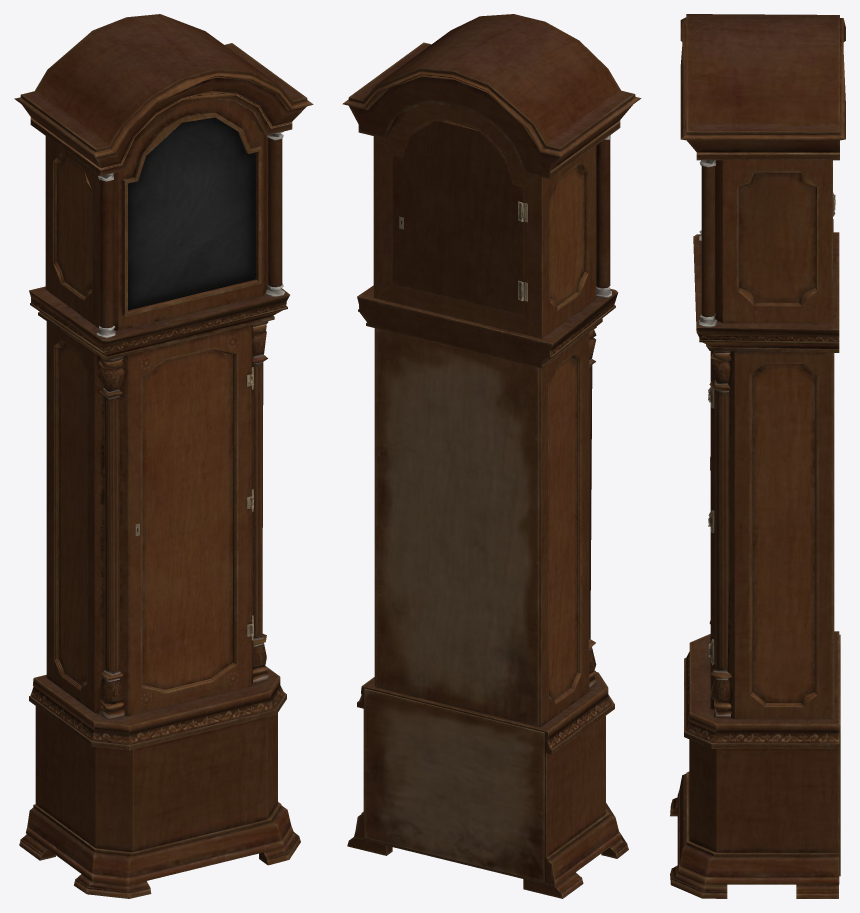
Rendered from ph-vintage-grandfather-clock-01-lite.glb.
3 renders of one model, left to right at view 1: azimuth 30°, elevation 25°; view 2: azimuth 150°, elevation 25°; view 3: azimuth 270°, elevation 25°, orthographic. The views are drawn at different scales.
Parts seen in each view (by area): view 1: vintage_grandfather_clock_01_Body; view 2: vintage_grandfather_clock_01_Body; view 3: vintage_grandfather_clock_01_Body.
Boxes of the visible parts, <box> form: vintage_grandfather_clock_01_Body: <box>14,14,313,898</box>; vintage_grandfather_clock_01_Body: <box>342,14,641,898</box>; vintage_grandfather_clock_01_Body: <box>670,14,845,898</box>.
Size of the model in its own units: 0.6256 by 2.19 by 0.4266.
2 materials, 2 textured.
